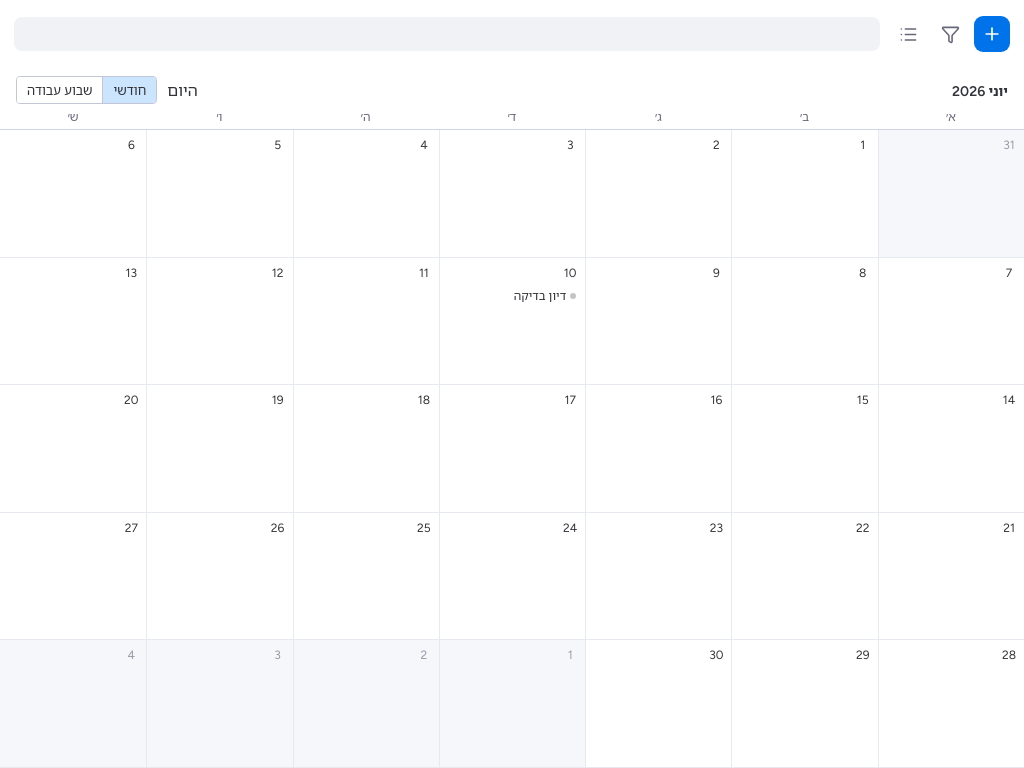
it: DiscussionList calendar rowActions wiring › surfaces row actions on chip hover when handlers are provided
Hover over the button "דיון בדיקה".
mouse_move(513, 296)  # box [444,286,581,307]
Wait 200 ms
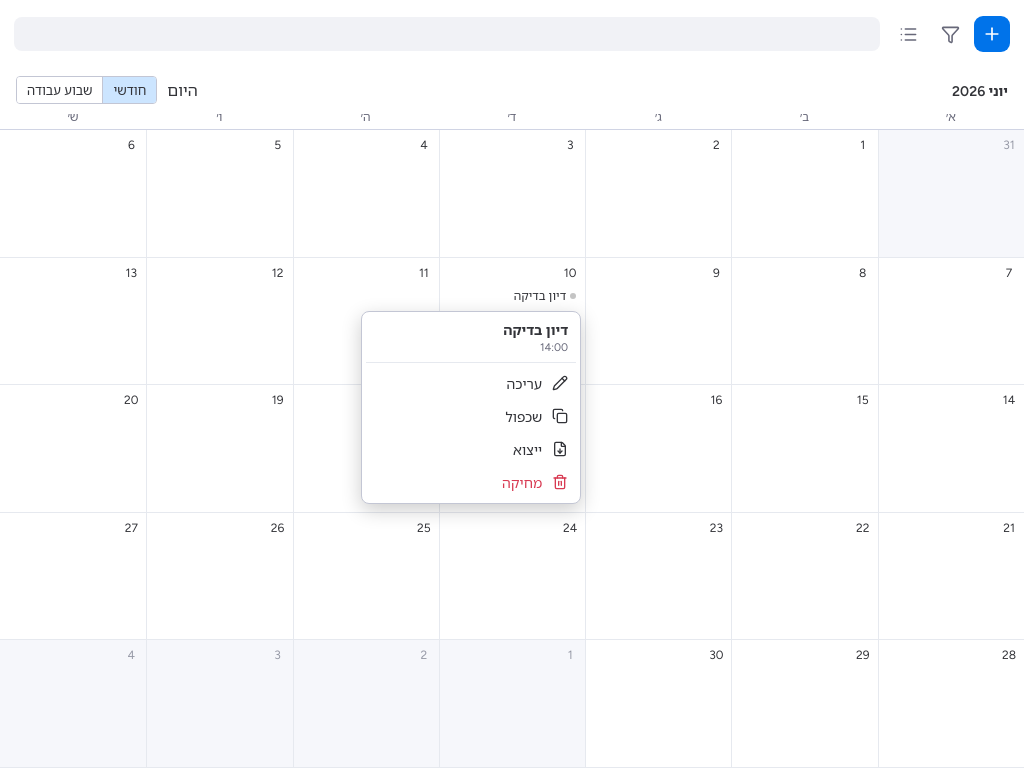
Check: the 2nd text "דיון בדיקה" is shown, box [503,322,568,339]
Check: the menu item "עריכה" is shown, box [366,367,576,400]
